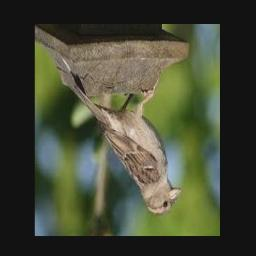Sparrow: (74, 82, 181, 215)
